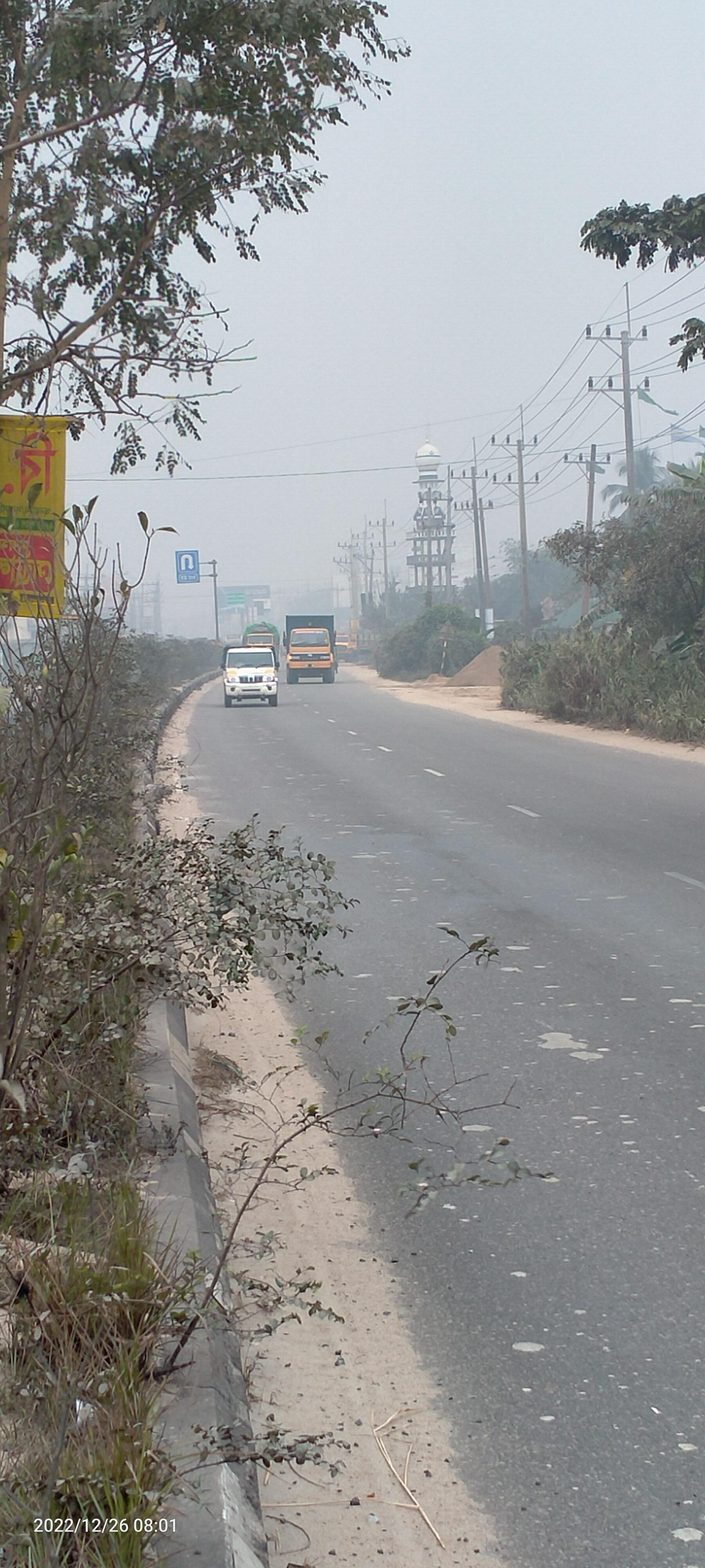Truck: (219, 638, 284, 711), (281, 608, 337, 684), (240, 621, 279, 667)
